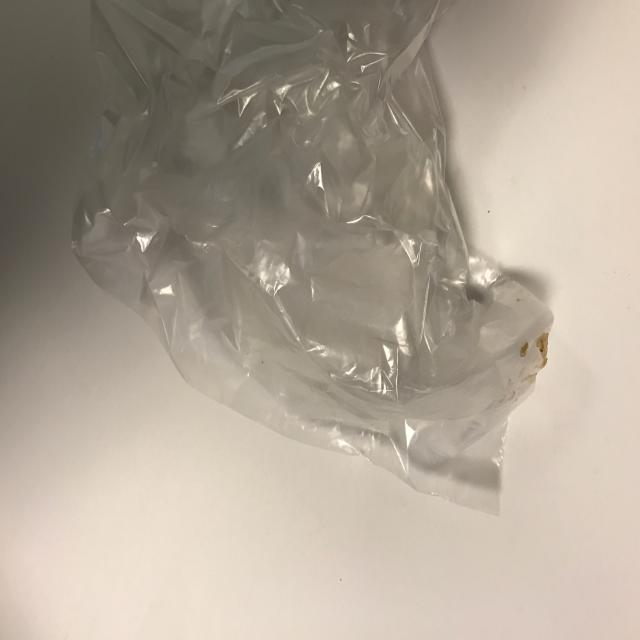trash: (70, 0, 554, 516)
